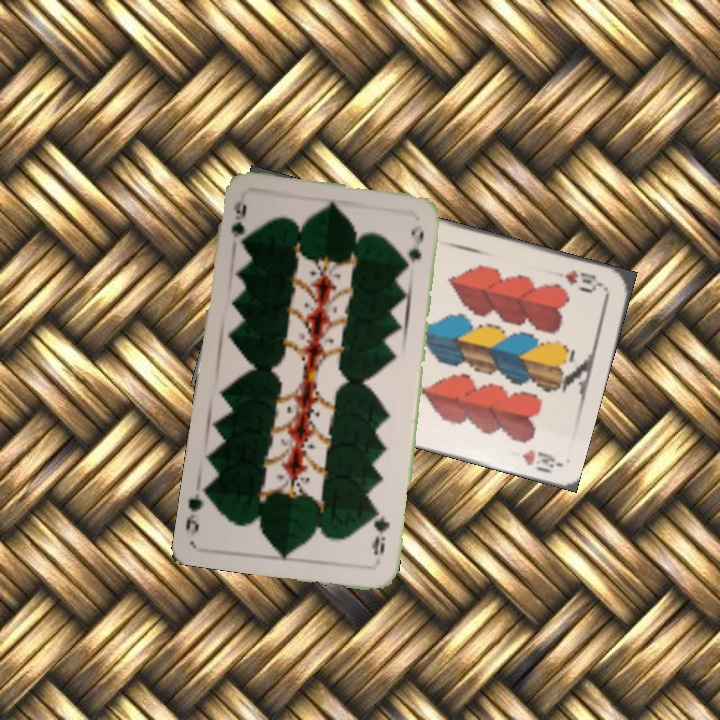G9: (227, 197, 251, 254), (367, 506, 392, 558)
H10: (561, 266, 607, 295)
